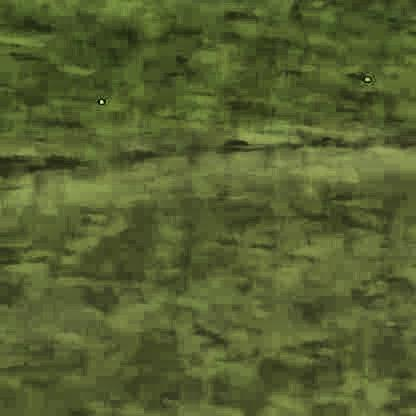golfball: (97, 97, 101, 101)
